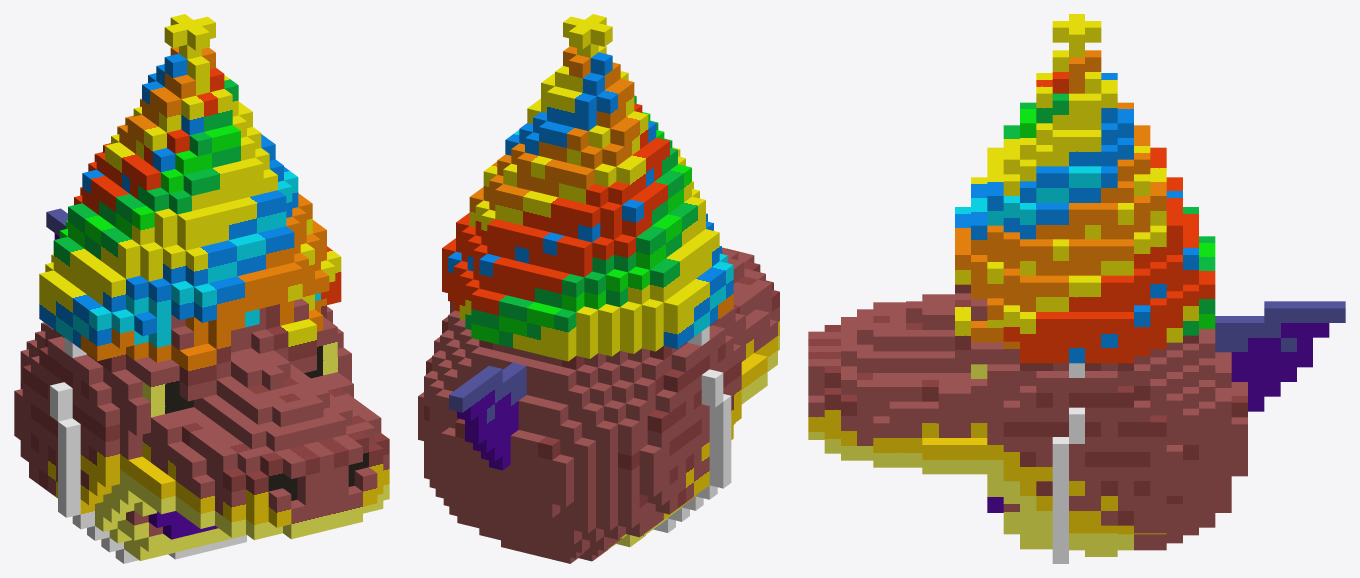
Rendered from birthday hat_eye patch.gltf.
3 renders of one model, left to right at view 1: azimuth 30°, elevation 25°; view 2: azimuth 150°, elevation 25°; view 3: azimuth 270°, elevation 25°, orthographic. The views are drawn at different scales.
Visible parts, largest first — view 1: C06_H_BirthdayH_EyeP-Mesh; view 2: C06_H_BirthdayH_EyeP-Mesh; view 3: C06_H_BirthdayH_EyeP-Mesh.
Boxes of the visible parts, x1=… form: C06_H_BirthdayH_EyeP-Mesh: x1=14, y1=14, x2=389, y2=563; C06_H_BirthdayH_EyeP-Mesh: x1=418, y1=14, x2=779, y2=563; C06_H_BirthdayH_EyeP-Mesh: x1=808, y1=14, x2=1345, y2=563.
Bounding box in the file's own units: 19 × 34 × 33.
Materials: 1 (1 with a texture image).
